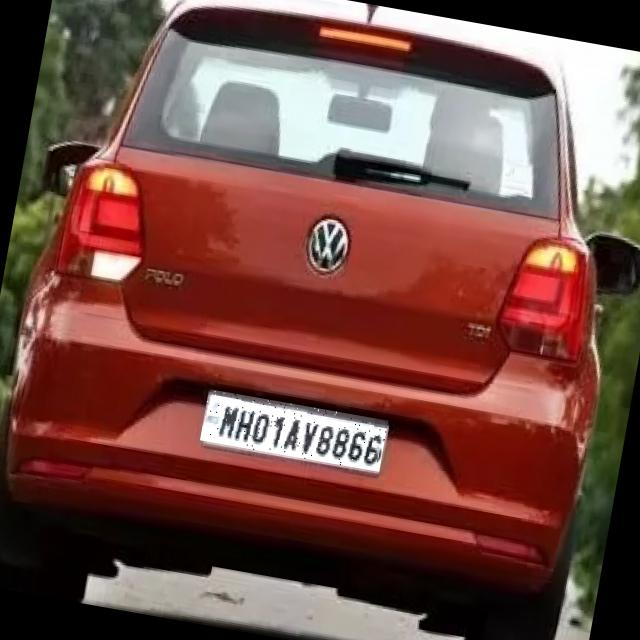Plate: (201, 390, 389, 473)
